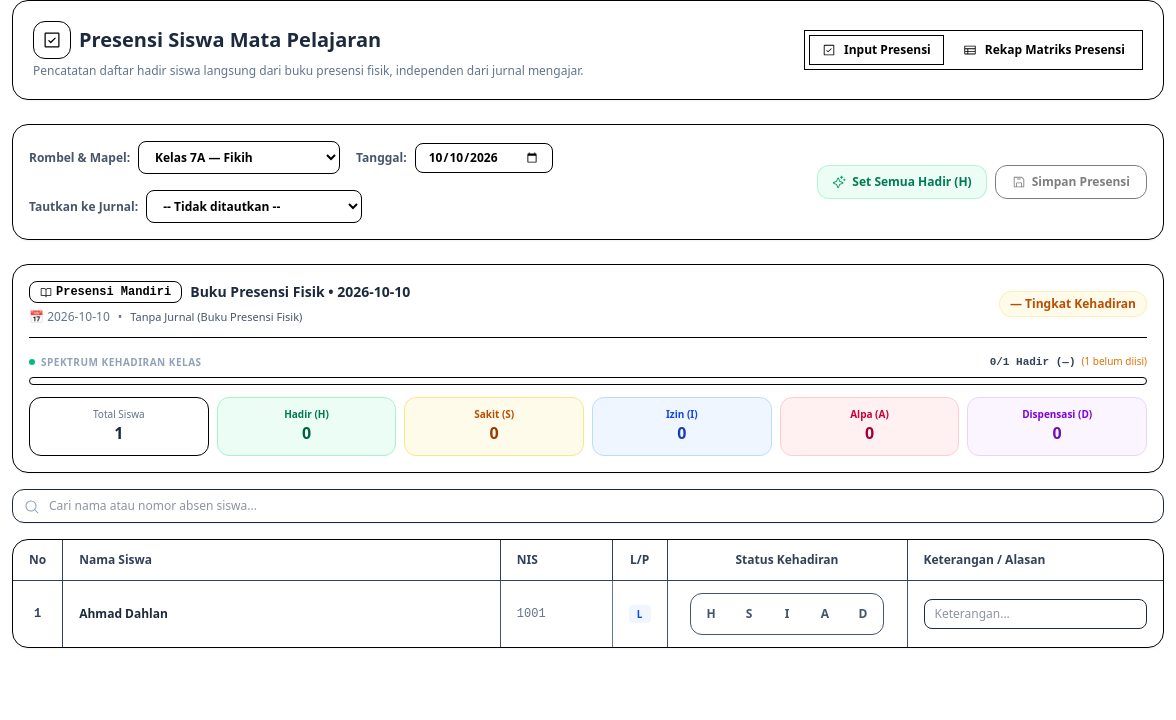
Scenario: SubjectAttendance Context Integrity & Safety (Reqs 4-13) › Req 11: Cross-assignment meeting link is rejected before save
The image size is (1176, 720).
Expected: the text "Ahmad Dahlan" is shown, 79,606 -> 168,622
Select "Pertemuan #99 — Bab Asing" in the dropdown next to "Tautkan ke Jurnal:" at (254,206), box 146,190 -> 362,223
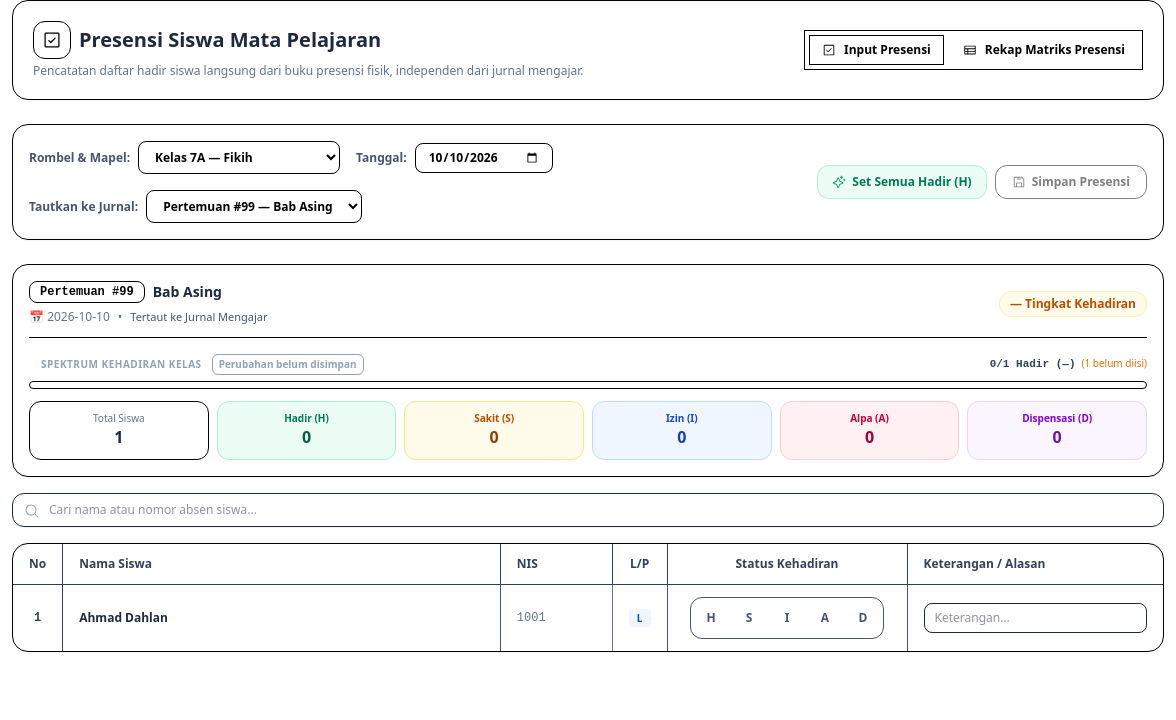
// Mark student status to satisfy completion requirement
Click the button titled "Hadir (H)" at (711,618), box 695,602 -> 727,634
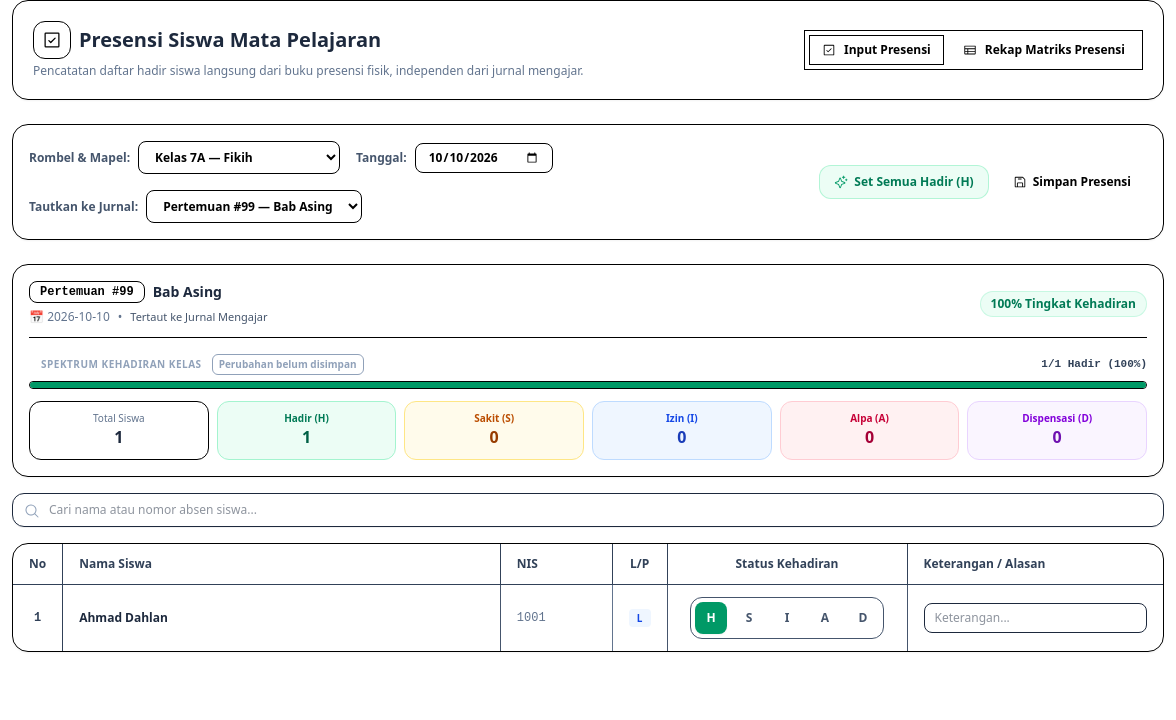
Click the button "Simpan Presensi" at (1072,182), box 997,166 -> 1147,198
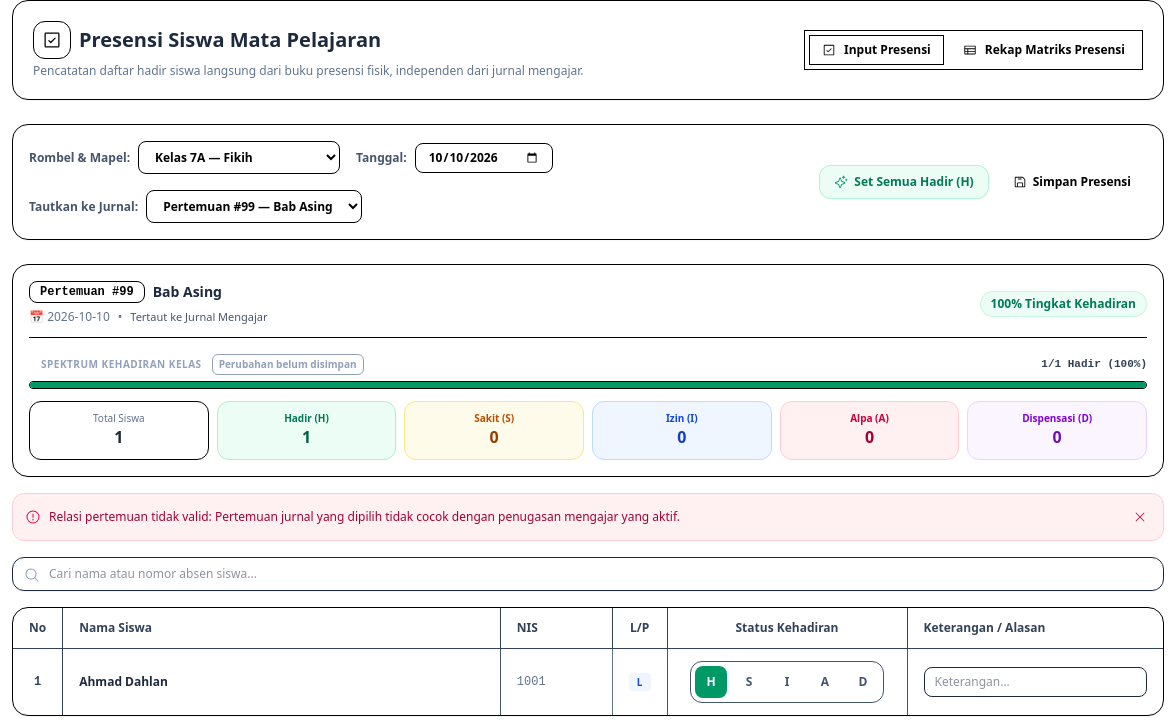
Expected: the text "Relasi pertemuan tidak valid" is shown, 49,508 -> 680,525
